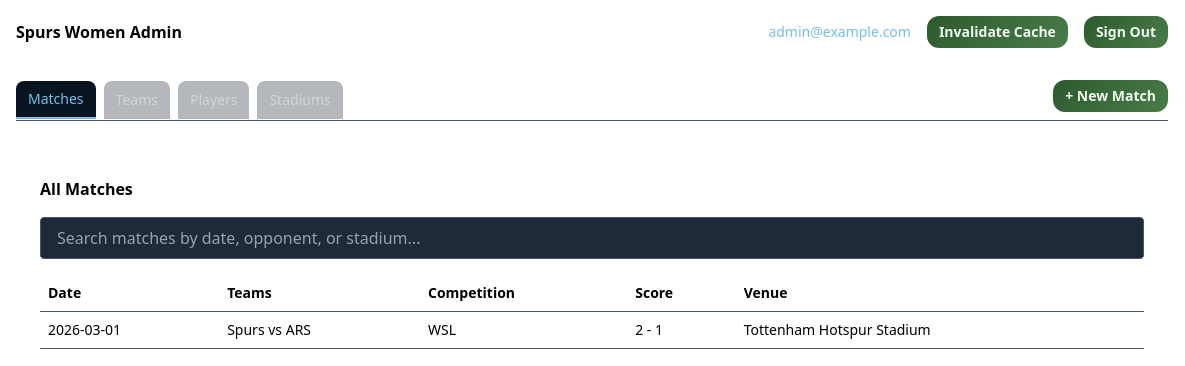
Test: AdminPage › shows an error message if cache invalidation fails
Expected: the tab "Matches" is shown, [16,81,96,119]
Click the button "Invalidate Cache". click: (997, 32)
box: [927,16,1068,48]
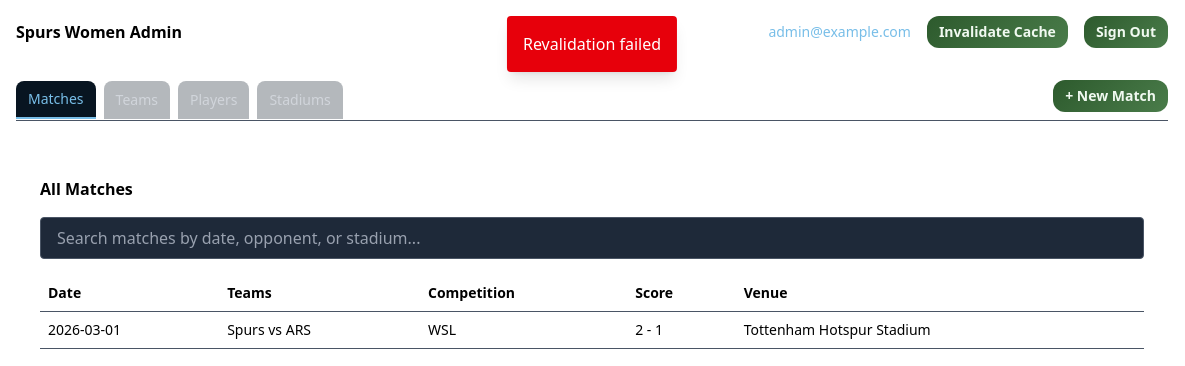
Expected: the text "Revalidation failed" is shown, [507,16,677,72]
